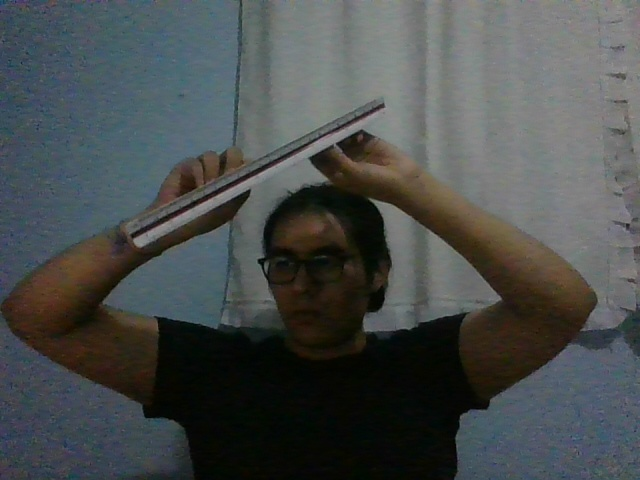regla: (124, 95, 386, 249)
